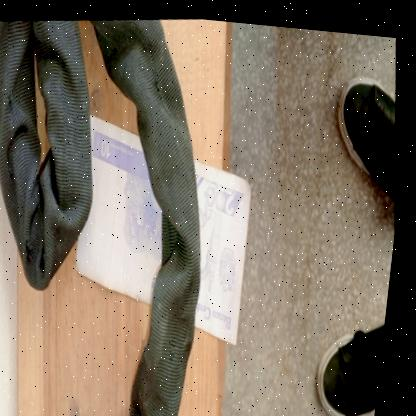ten-back-vef: (56, 94, 277, 359)
